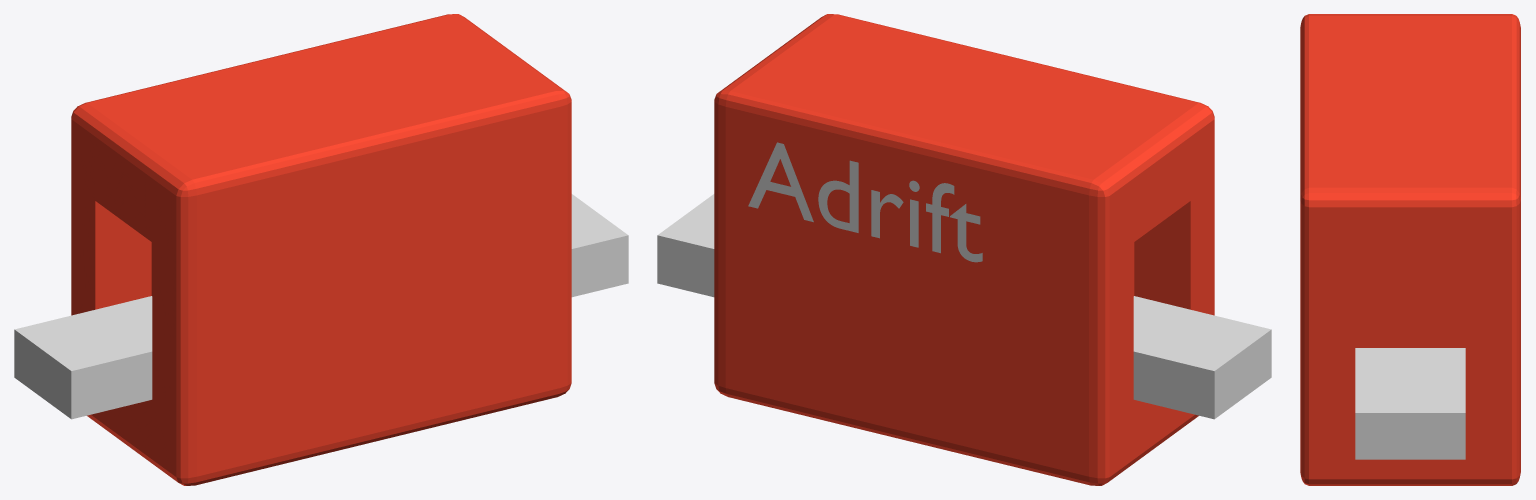
The model's file is machine.fbx.
3 views of the same model, side by side, from view 1: azimuth 30°, elevation 25°; view 2: azimuth 150°, elevation 25°; view 3: azimuth 270°, elevation 25° (orthographic). The views are drawn at different scales.
Visible parts, largest first — view 1: Cube, Cube.001; view 2: Cube, Cube.001, Text; view 3: Cube, Cube.001.
Boxes of the visible parts, x1,y1,x2,y2 form: Cube: [71, 14, 571, 485]; Cube.001: [14, 194, 628, 419]; Cube: [714, 14, 1214, 485]; Cube.001: [657, 194, 1271, 419]; Text: [748, 142, 982, 262]; Cube: [1300, 14, 1520, 485]; Cube.001: [1355, 348, 1465, 459].
Bounding box in the file's own units: 564 × 296 × 201.
